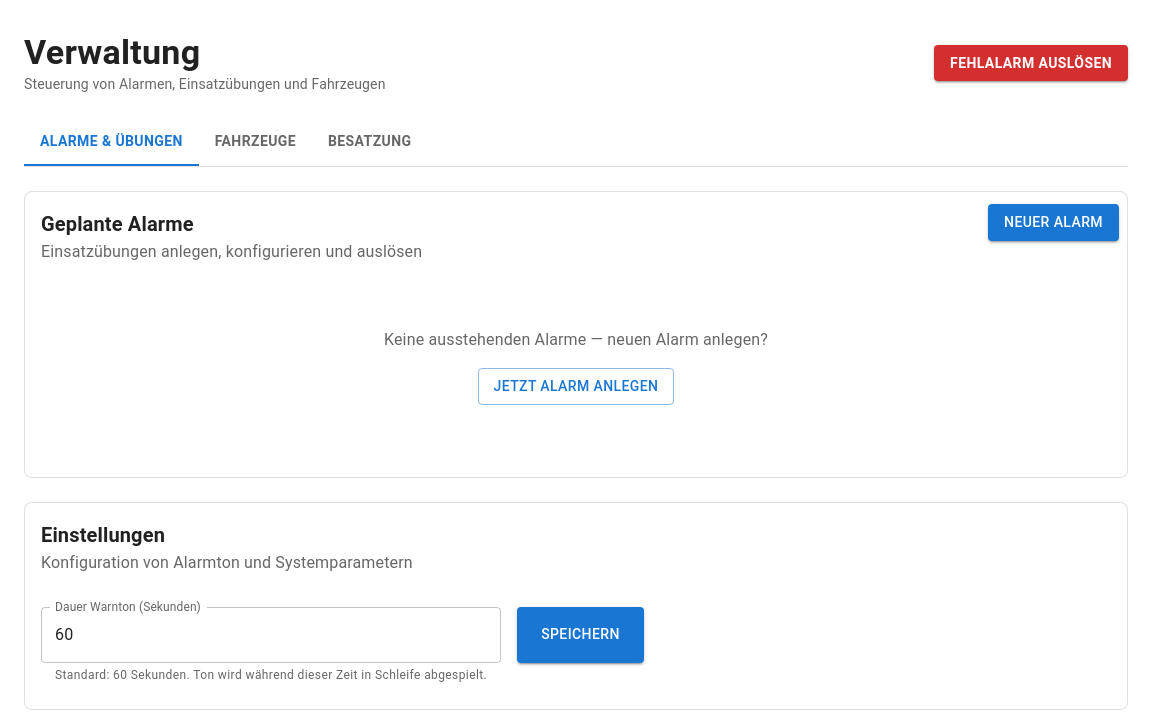
Test: AdminLayout › handles false alarm rejection when alert active (AE1)
Check: the heading "Verwaltung" is shown, box [24,32,200,72]
Click the button "Fehlalarm auslösen" at (1031, 63), box [934,45,1128,81]
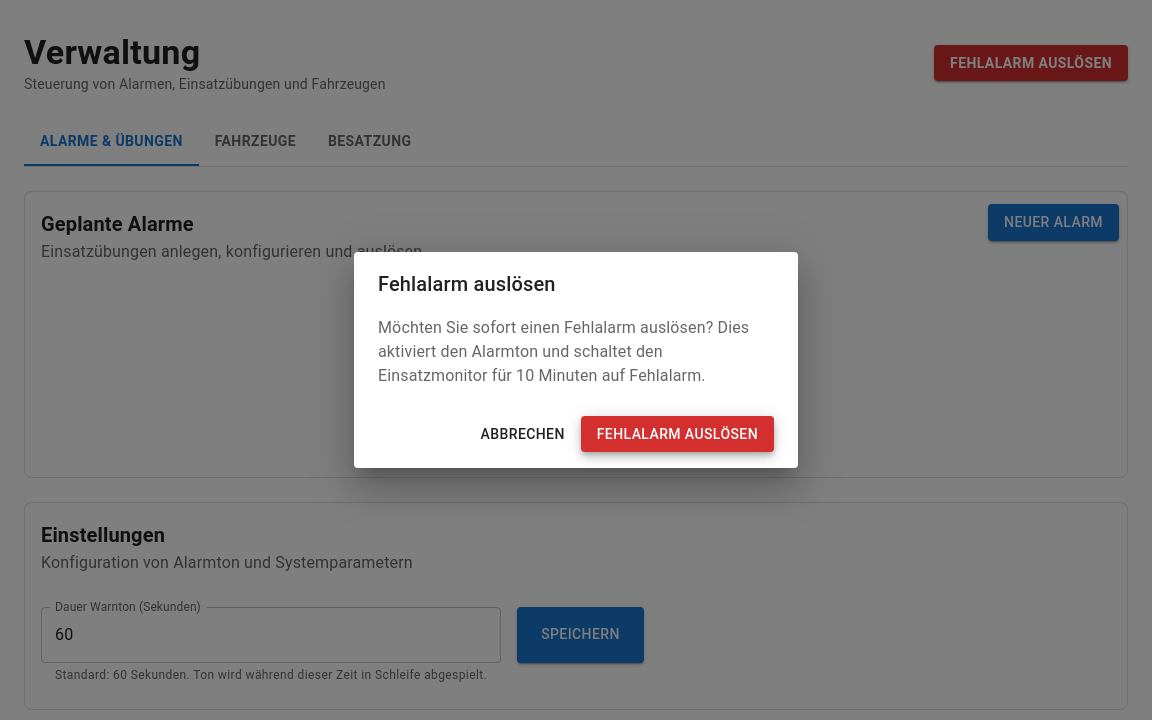
Click the button "Fehlalarm auslösen" at (677, 434), box [581,416,774,452]
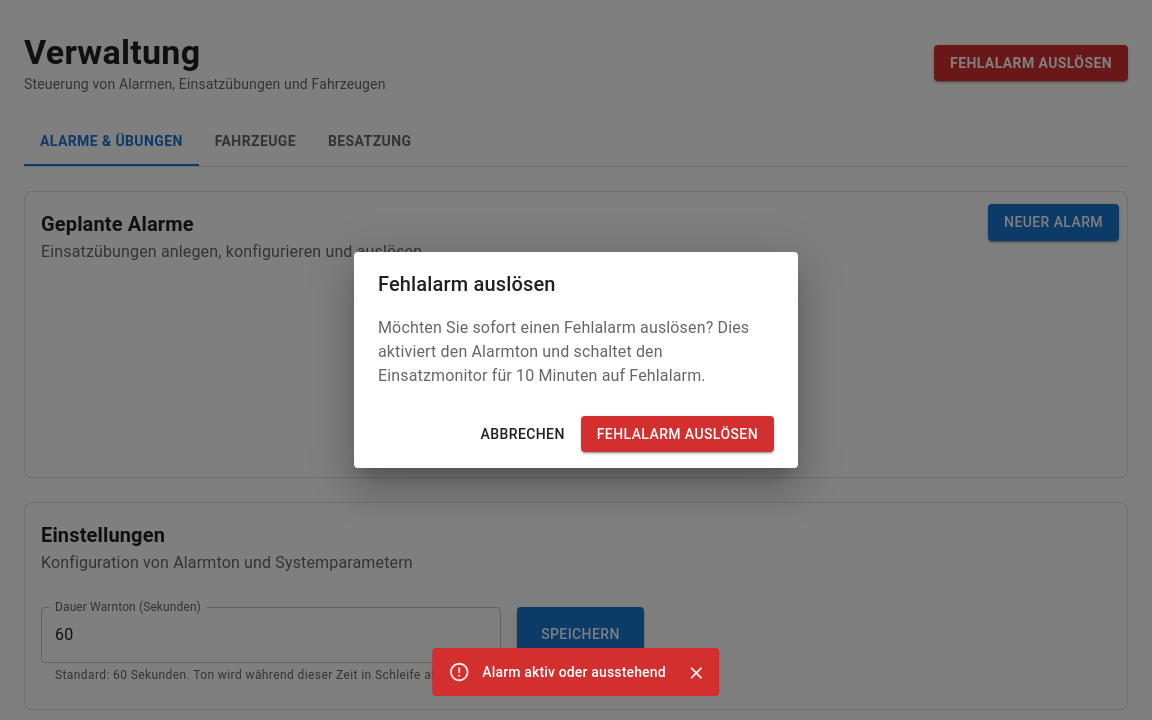
Check: the text "Alarm aktiv oder ausstehend" is shown, box [482,664,666,680]
